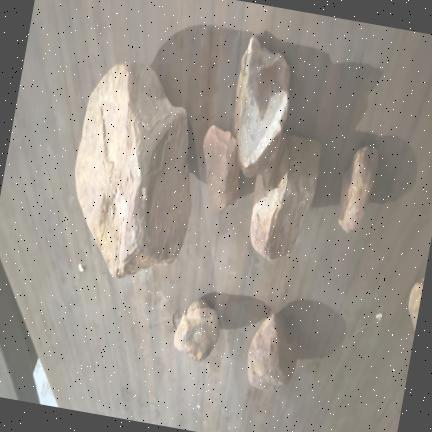Rocks: (74, 63, 190, 276), (250, 133, 319, 258), (234, 37, 289, 175), (247, 312, 296, 388), (338, 146, 378, 231), (203, 125, 239, 209), (173, 299, 218, 360), (408, 277, 424, 329)
